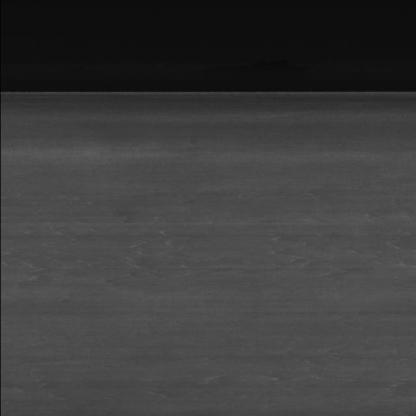silk_spot: (64, 221, 247, 288)
